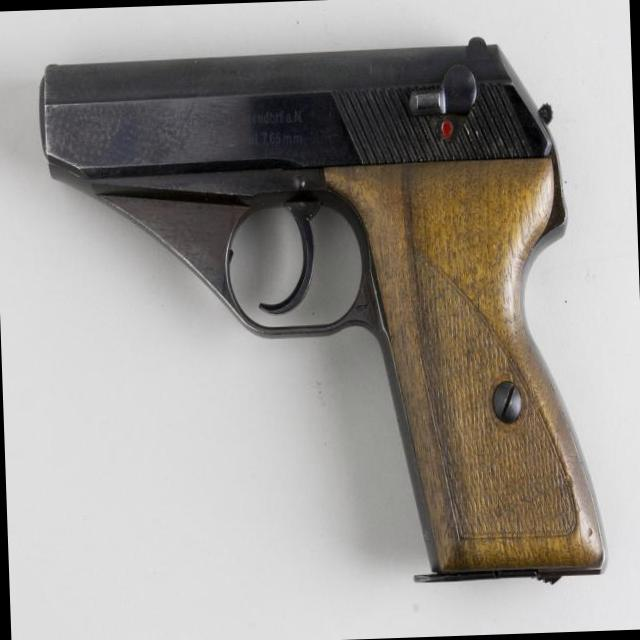Gun: (38, 38, 608, 585)
